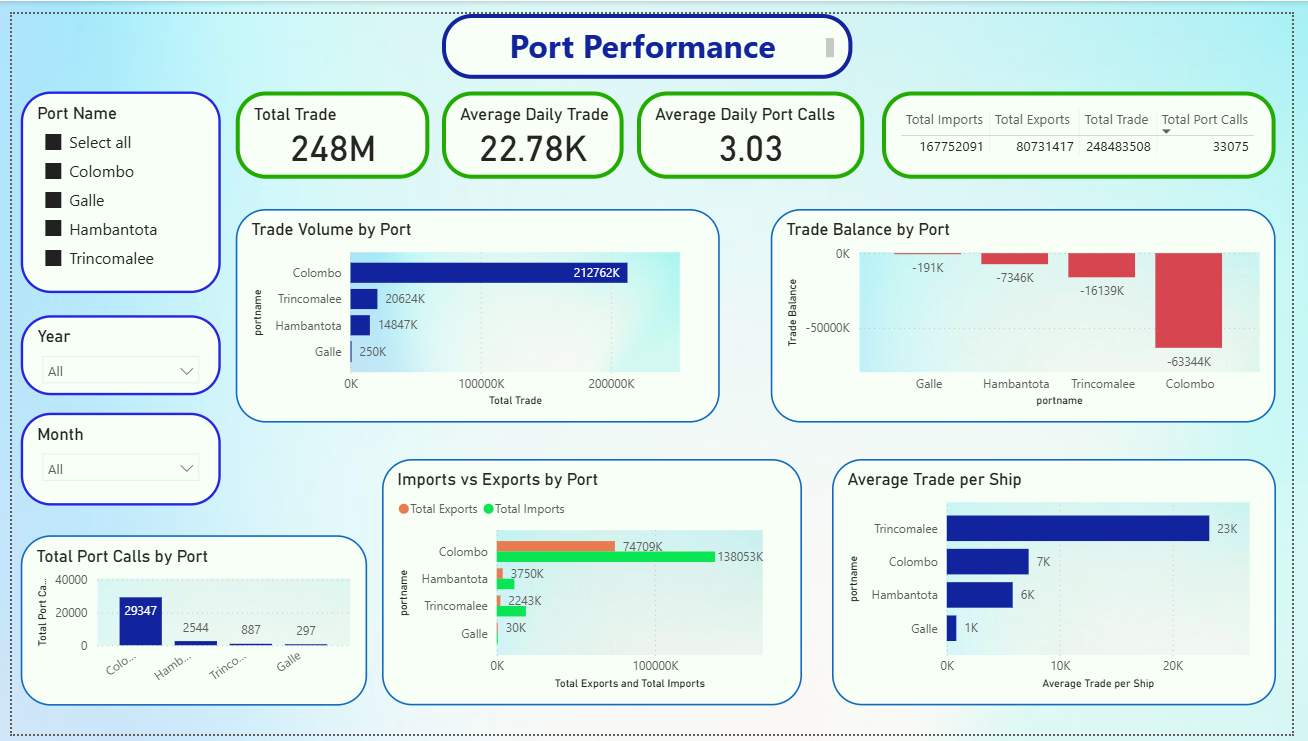

The dashboard page shown, as its layout file describes it:
{"tool":"powerbi","page":{"name":"Page 2-Port performance","canvas":[1280,720],"ordinal":1},"visuals":[{"type":"textbox","box":[430,0,410,65],"z":0},{"type":"card","title":"Total Trade","fields":{"Values":["processed_sri_lanka_port_data.Total Trade"]},"box":[223.8,77.5,193.8,87.5],"z":1000},{"type":"card","title":"Average Daily Trade","fields":{"Values":["processed_sri_lanka_port_data.Average Daily Trade"]},"box":[430,77.5,181.2,87.5],"z":2000},{"type":"card","title":"Average Daily Port Calls","fields":{"Values":["processed_sri_lanka_port_data.Average Daily Port Calls"]},"box":[625,77.5,227.5,87.5],"z":3000},{"type":"clusteredBarChart","title":"Trade Volume by Port","fields":{"Category":["processed_sri_lanka_port_data.portname"],"Y":["processed_sri_lanka_port_data.Total Trade"]},"box":[223.8,195,483.8,213.8],"z":4000},{"type":"clusteredBarChart","title":"Imports vs Exports by Port","fields":{"Category":["processed_sri_lanka_port_data.portname"],"Y":["processed_sri_lanka_port_data.Total Exports","processed_sri_lanka_port_data.Total Imports"]},"box":[370,445,420,246.2],"z":5000},{"type":"clusteredColumnChart","title":"Trade Balance by Port","fields":{"Category":["processed_sri_lanka_port_data.portname"],"Y":["processed_sri_lanka_port_data.Trade Balance"]},"box":[758.8,195,505,213.8],"z":6000},{"type":"clusteredBarChart","title":"Average Trade per Ship","fields":{"Category":["processed_sri_lanka_port_data.portname"],"Y":["processed_sri_lanka_port_data.Average Trade per Ship"]},"box":[820,445,443.8,246.2],"z":7000},{"type":"clusteredColumnChart","title":"Total Port Calls by Port","fields":{"Category":["processed_sri_lanka_port_data.portname"],"Y":["processed_sri_lanka_port_data.Total Port Calls"]},"box":[8.8,521.2,346.2,170],"z":8000},{"type":"tableEx","fields":{"Values":["processed_sri_lanka_port_data.Total Imports","processed_sri_lanka_port_data.Total Exports","processed_sri_lanka_port_data.Total Trade","processed_sri_lanka_port_data.Total Port Calls"]},"box":[870,77.5,393.8,87.5],"z":9000},{"type":"slicer","title":"Port Name","fields":{"Values":["processed_sri_lanka_port_data.portname"]},"box":[8.8,77.5,200,201.2],"z":10000},{"type":"slicer","title":"Year","fields":{"Values":["processed_sri_lanka_port_data.year"]},"box":[8.8,301.2,200,80],"z":11000},{"type":"slicer","title":"Month","fields":{"Values":["processed_sri_lanka_port_data.month"]},"box":[8.8,398.8,200,92.5],"z":12000}]}

Visuals, with their boxes in screenshot pixels (x1, y1, x2, y2), scaled from the page's 1280x720 canvas onto the 1308x741 screenshot:
textbox: box(439, 0, 858, 67)
"Total Trade" card: box(229, 80, 427, 170)
"Average Daily Trade" card: box(439, 80, 625, 170)
"Average Daily Port Calls" card: box(639, 80, 871, 170)
"Trade Volume by Port" clusteredBarChart: box(229, 201, 723, 421)
"Imports vs Exports by Port" clusteredBarChart: box(378, 458, 807, 711)
"Trade Balance by Port" clusteredColumnChart: box(775, 201, 1291, 421)
"Average Trade per Ship" clusteredBarChart: box(838, 458, 1291, 711)
"Total Port Calls by Port" clusteredColumnChart: box(9, 536, 363, 711)
tableEx - processed_sri_lanka_port_data.Total Imports x processed_sri_lanka_port_data.Total Exports: box(889, 80, 1291, 170)
"Port Name" slicer: box(9, 80, 213, 287)
"Year" slicer: box(9, 310, 213, 392)
"Month" slicer: box(9, 410, 213, 506)
